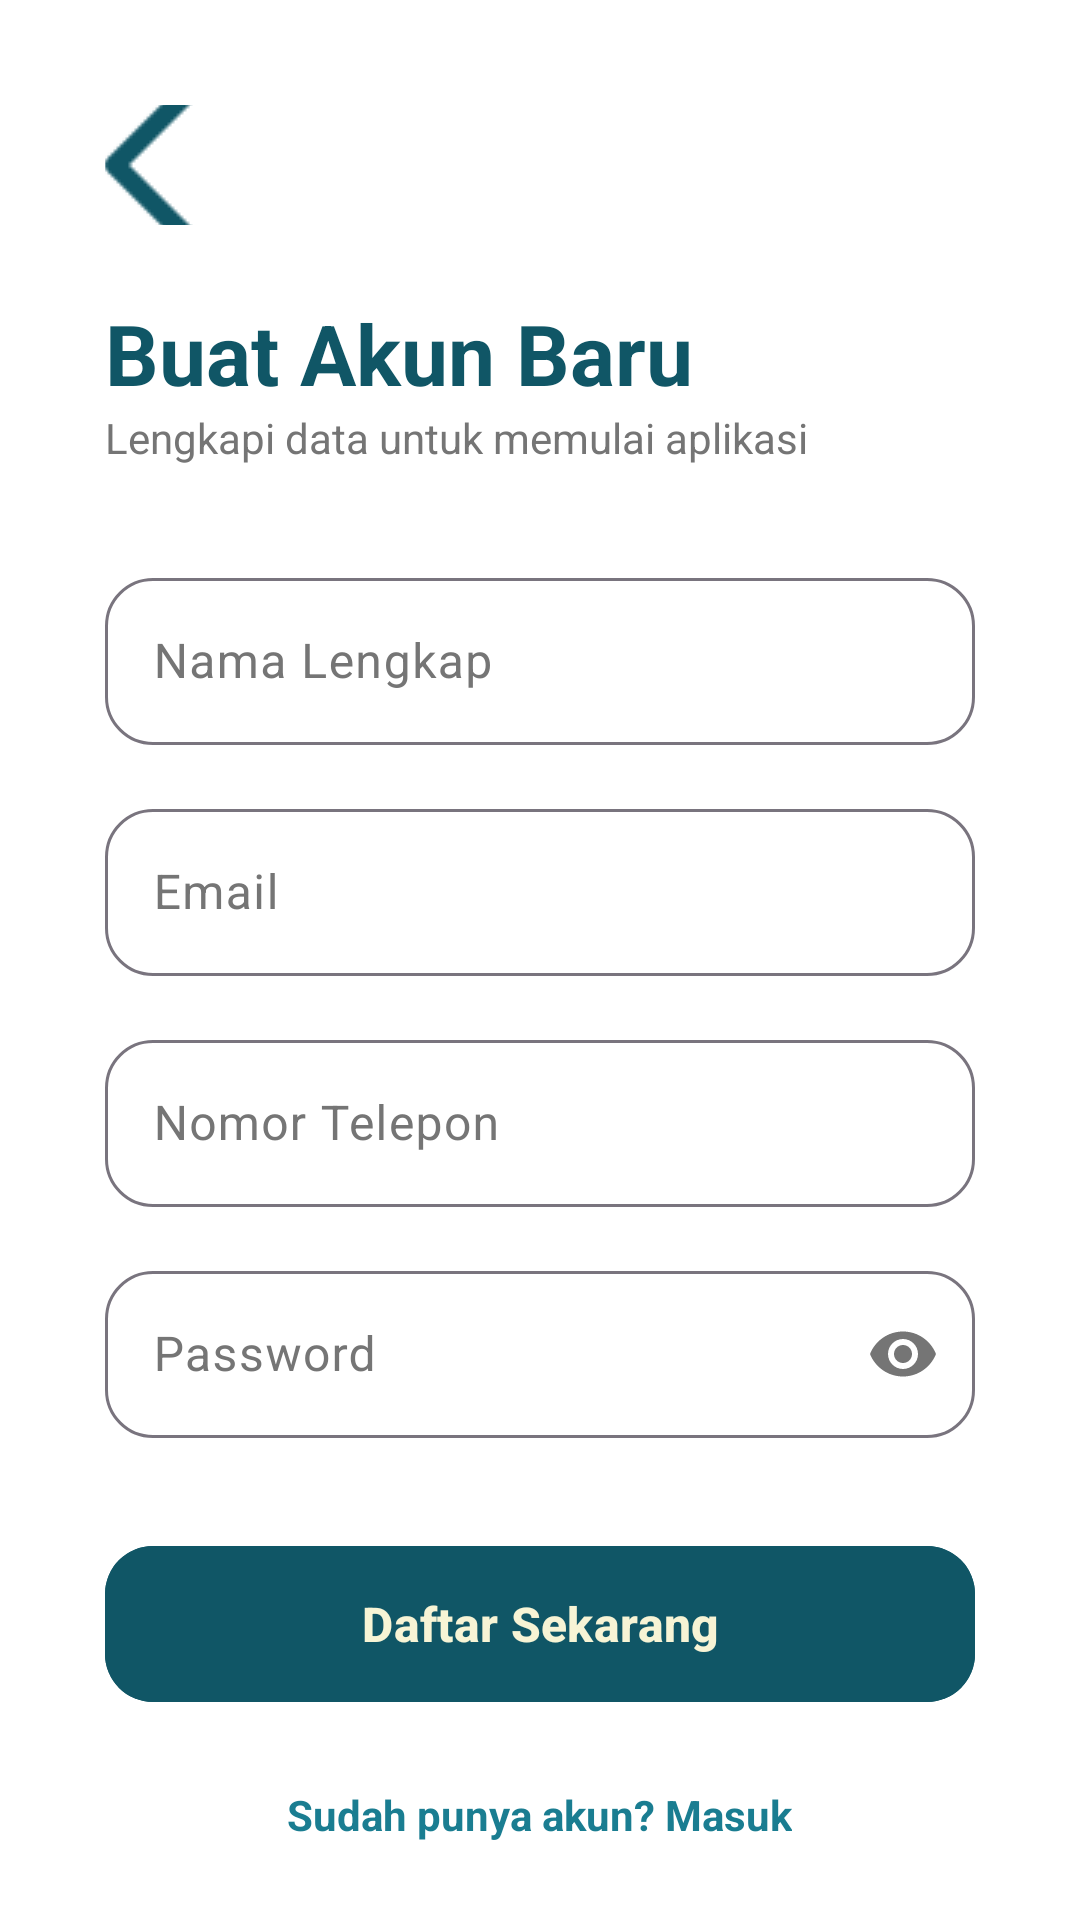

Where to tap for icons on this 1080*1920 app screen, as (x=x, y=y):
back: (x=148, y=165)
